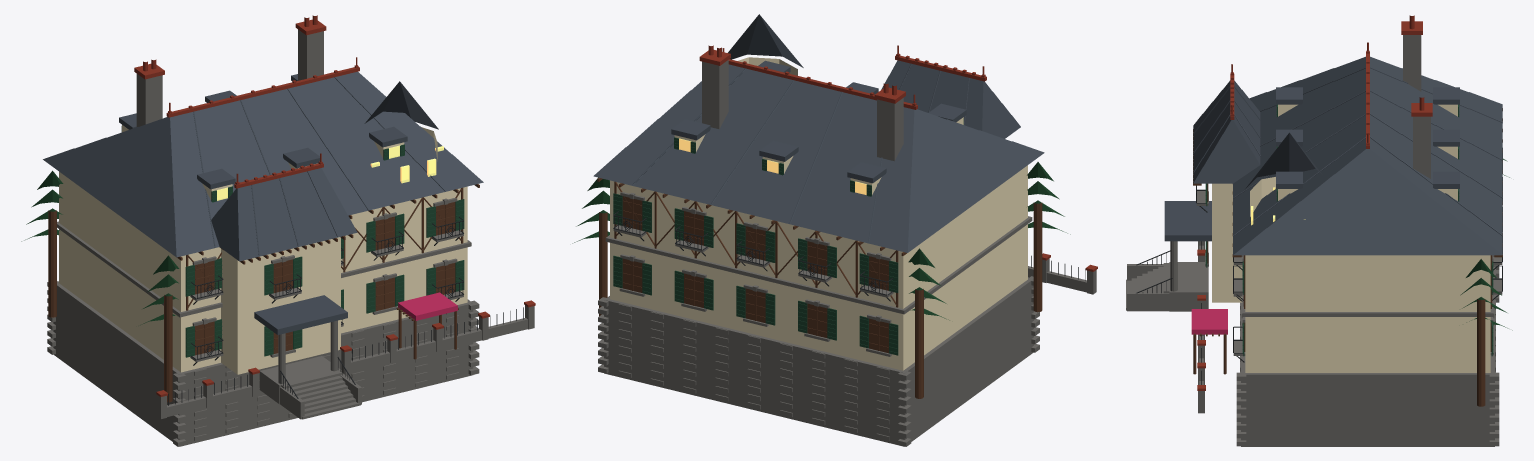
Rendered from fv_hv_12_hung_vuong_pine_ridge_manor.glb.
3 renders of one model, left to right at view 1: azimuth 30°, elevation 25°; view 2: azimuth 150°, elevation 25°; view 3: azimuth 270°, elevation 25°, orthographic. The views are drawn at different scales.
Visible parts, largest first — view 1: marseille_corrugated_roof_tiles, granite_foundation_and_stairs, stucco_facade_and_dormers, colombage_timber_and_eaves, pine_green_louvered_shutters, ridge_cresting_and_chimneys, wrought_iron_balconies_3d, pine_trees_and_garden_hedges, bougainvillea_pergola_clusters, warm_night_windows_ffb86c; view 2: marseille_corrugated_roof_tiles, granite_foundation_and_stairs, stucco_facade_and_dormers, colombage_timber_and_eaves, pine_green_louvered_shutters, ridge_cresting_and_chimneys, pine_trees_and_garden_hedges, wrought_iron_balconies_3d; view 3: marseille_corrugated_roof_tiles, stucco_facade_and_dormers, granite_foundation_and_stairs, colombage_timber_and_eaves, ridge_cresting_and_chimneys, bougainvillea_pergola_clusters, wrought_iron_balconies_3d, pine_green_louvered_shutters, pine_trees_and_garden_hedges.
Part boxes in pixels (x1=…): marseille_corrugated_roof_tiles: x1=43, y1=71, x2=483, y2=334; granite_foundation_and_stairs: x1=47, y1=29, x2=534, y2=446; stucco_facade_and_dormers: x1=59, y1=125, x2=467, y2=374; colombage_timber_and_eaves: x1=48, y1=184, x2=479, y2=402; pine_green_louvered_shutters: x1=121, y1=126, x2=464, y2=357; ridge_cresting_and_chimneys: x1=134, y1=15, x2=535, y2=396; wrought_iron_balconies_3d: x1=168, y1=216, x2=523, y2=405; pine_trees_and_garden_hedges: x1=21, y1=170, x2=179, y2=325; bougainvillea_pergola_clusters: x1=398, y1=292, x2=457, y2=320; warm_night_windows_ffb86c: x1=216, y1=145, x2=443, y2=200; marseille_corrugated_roof_tiles: x1=593, y1=14, x2=1044, y2=252; granite_foundation_and_stairs: x1=598, y1=60, x2=1096, y2=446; stucco_facade_and_dormers: x1=610, y1=57, x2=1027, y2=370; colombage_timber_and_eaves: x1=597, y1=178, x2=1042, y2=398; pine_green_louvered_shutters: x1=613, y1=118, x2=963, y2=355; ridge_cresting_and_chimneys: x1=699, y1=45, x2=1097, y2=271; pine_trees_and_garden_hedges: x1=572, y1=162, x2=1070, y2=320; wrought_iron_balconies_3d: x1=613, y1=211, x2=1085, y2=301; marseille_corrugated_roof_tiles: x1=1164, y1=56, x2=1502, y2=255; stucco_facade_and_dormers: x1=1212, y1=104, x2=1490, y2=372; granite_foundation_and_stairs: x1=1126, y1=35, x2=1502, y2=446; colombage_timber_and_eaves: x1=1193, y1=108, x2=1502, y2=406; ridge_cresting_and_chimneys: x1=1197, y1=15, x2=1432, y2=390; bougainvillea_pergola_clusters: x1=1191, y1=309, x2=1227, y2=334; wrought_iron_balconies_3d: x1=1136, y1=148, x2=1502, y2=384; pine_green_louvered_shutters: x1=1205, y1=104, x2=1493, y2=356; pine_trees_and_garden_hedges: x1=1460, y1=158, x2=1512, y2=330.
Size of the model in its own units: 25.94 by 20.53 by 23.42.
